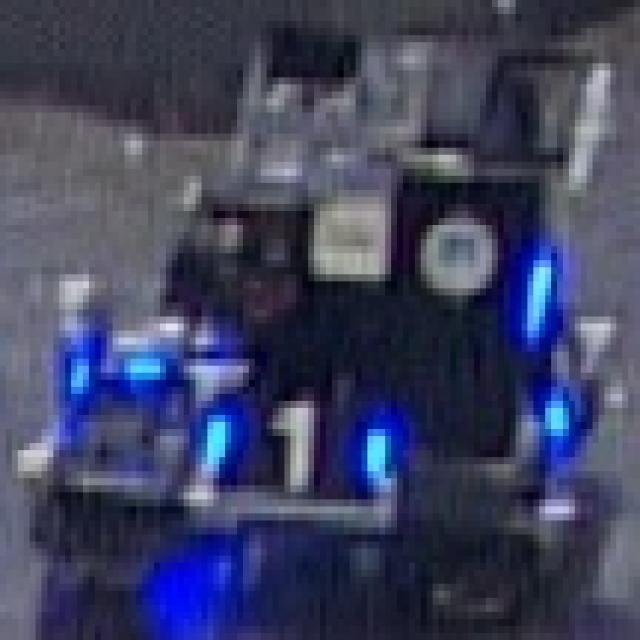B1: (195, 380, 409, 506)
